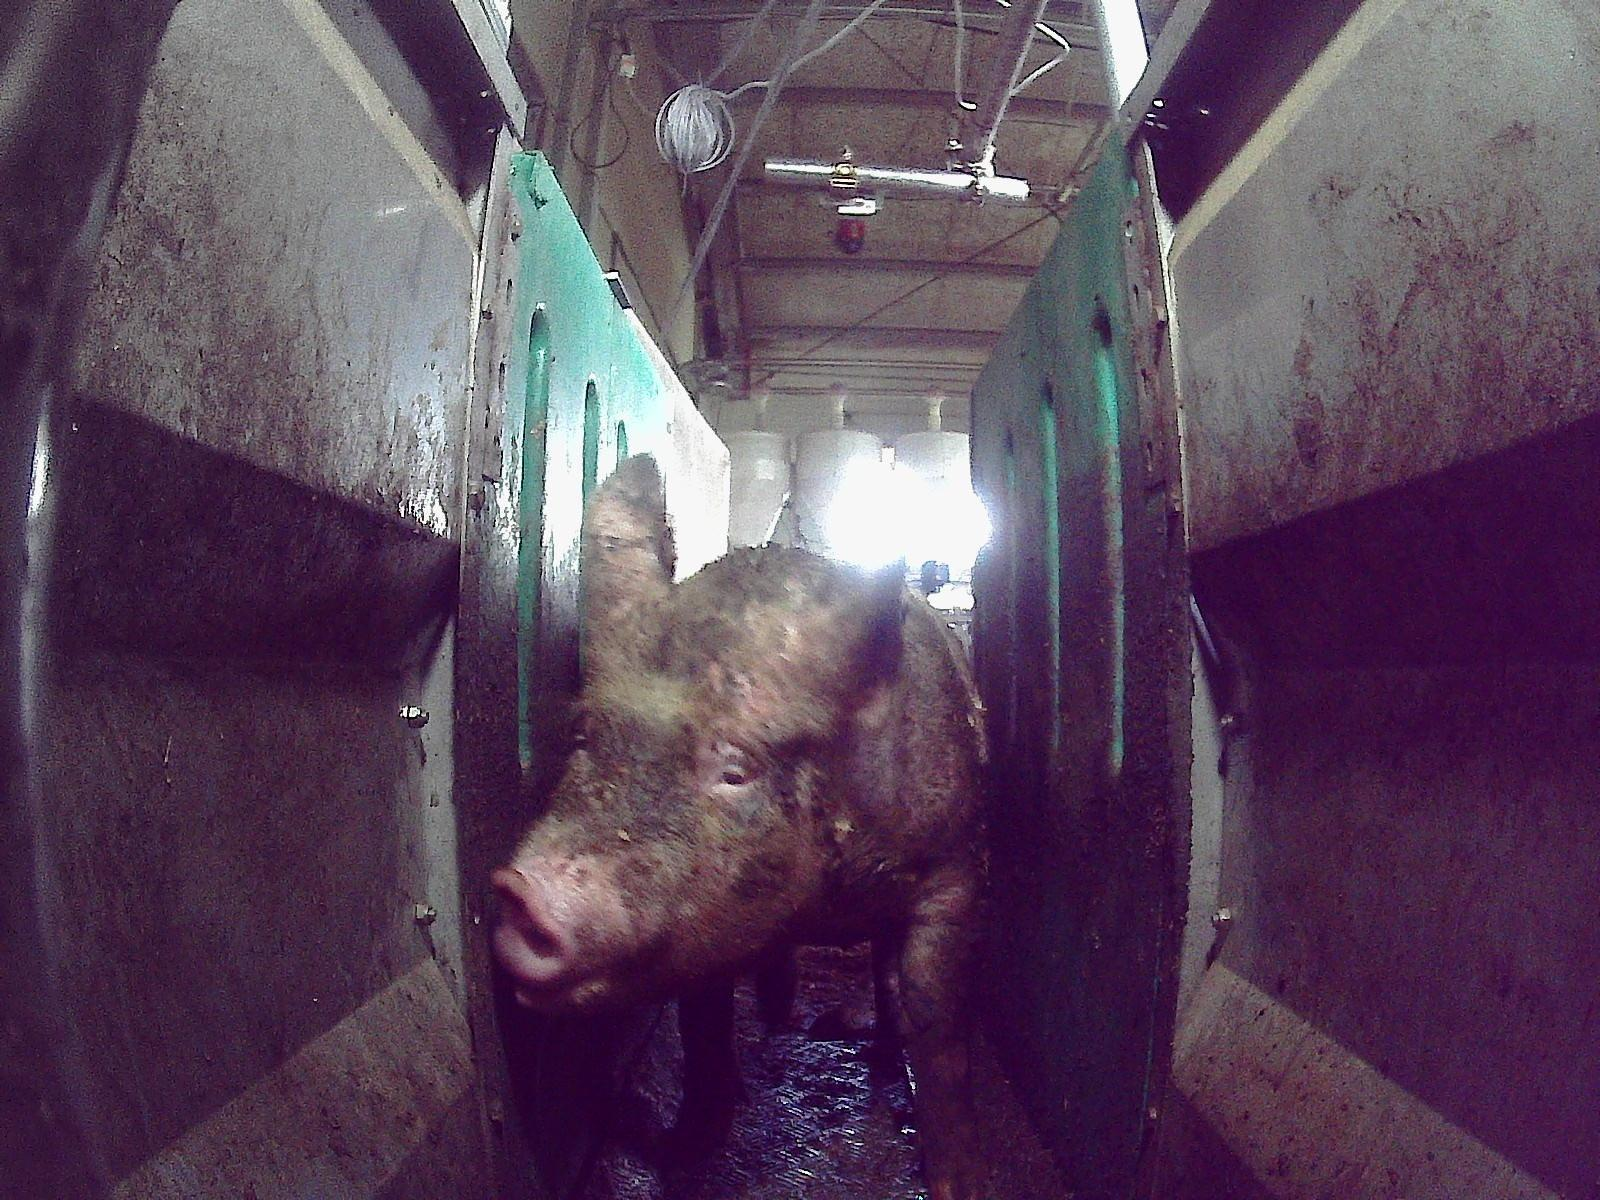Face: (486, 582, 833, 1011)
